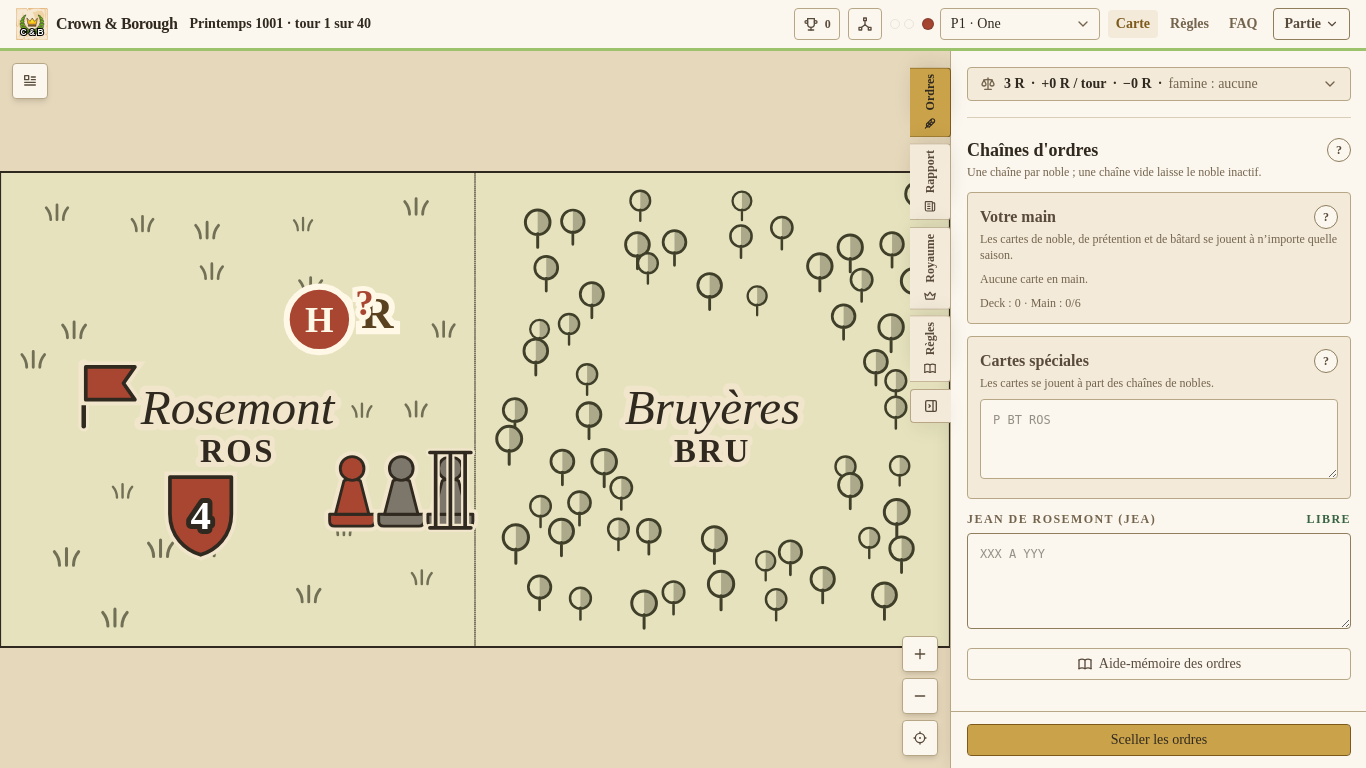
Scenario: App command/report tabs › forces the resolution as the host and reloads the selected player view
Expected: the text "Printemps 1001 · tour 1 sur 40" is shown, [189,14,371,34]
Click the dropdown named "Joueur actif" at (1020, 24), box [940,8,1100,40]
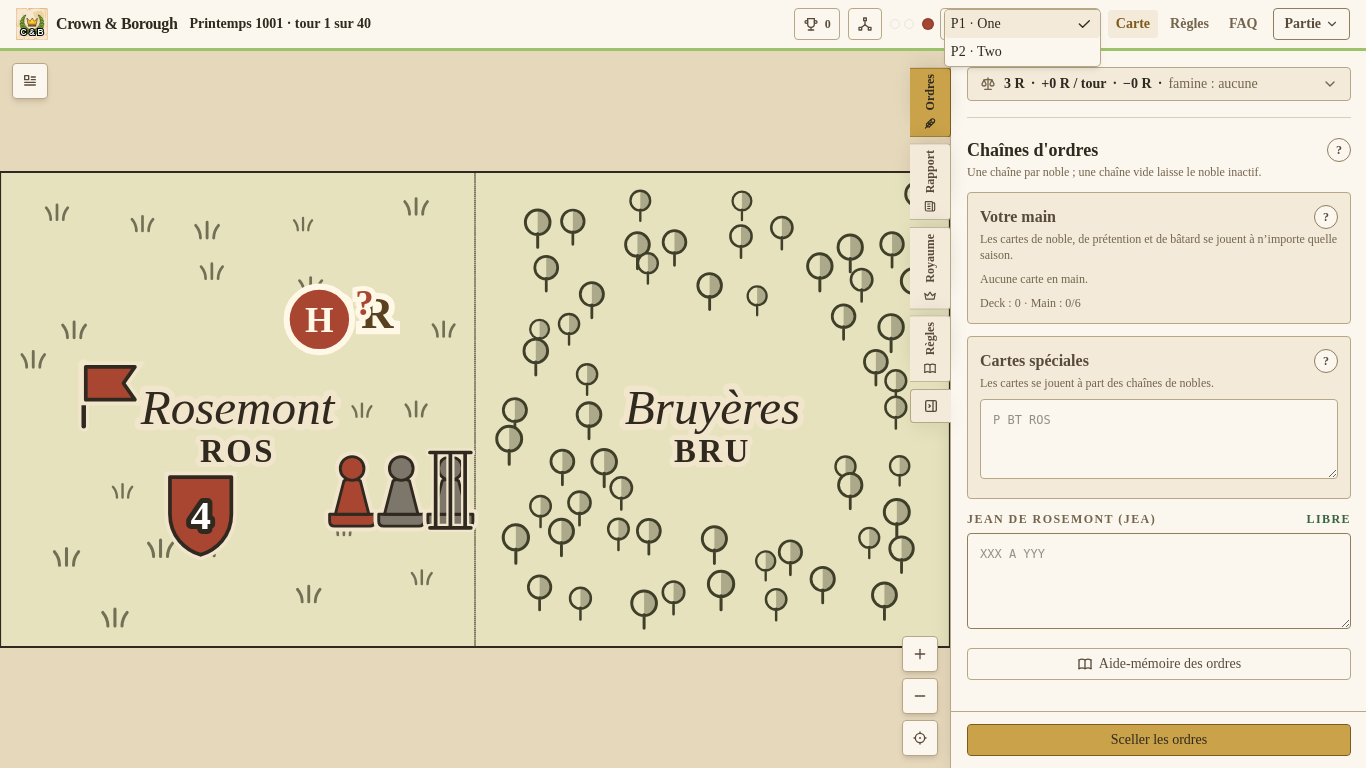
Click the option "P2 · Two" at (976, 52), box [951,44,1002,59]
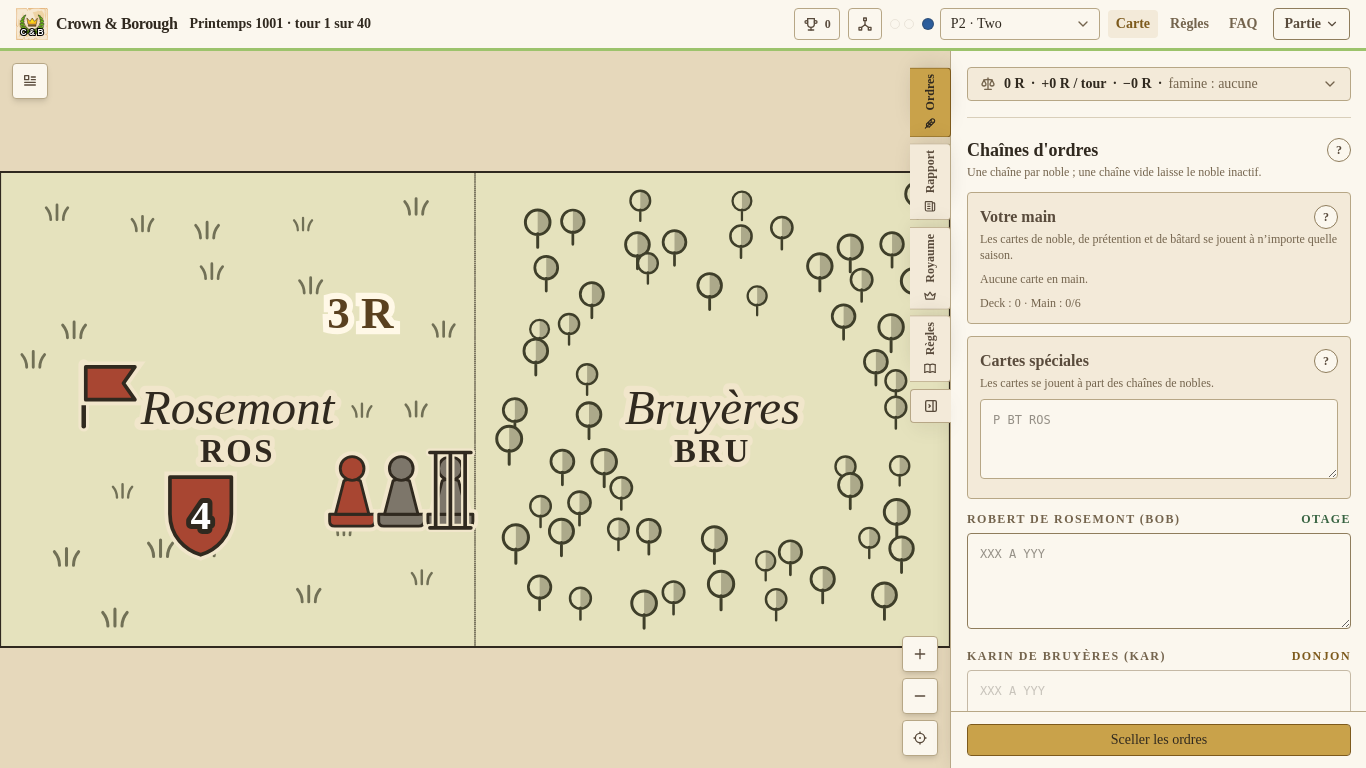
Click the button "Partie" at (1312, 24), box [1274,8,1350,40]
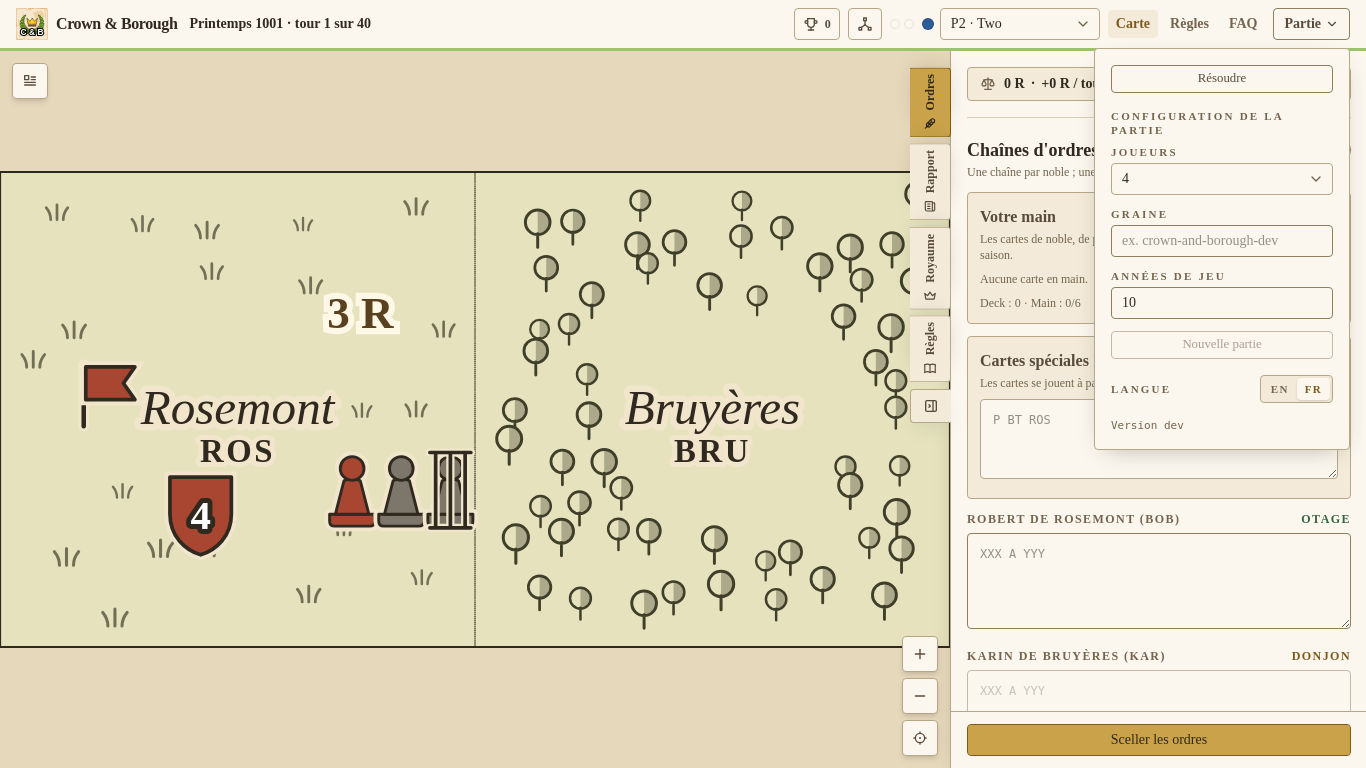
Click the button "Résoudre" at (1222, 79), box [1111,65,1333,93]
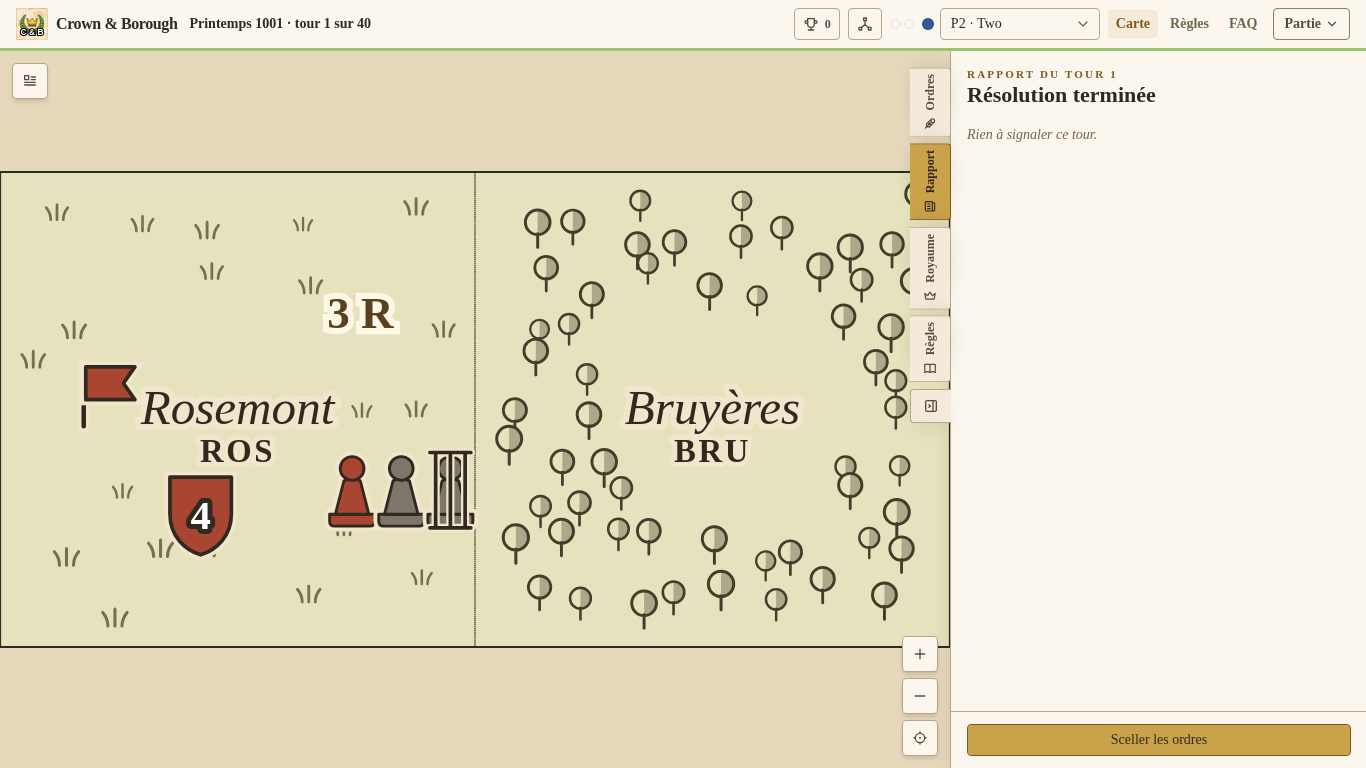
Expected: the text "Rapport du tour 1" is shown, [967,68,1118,80]
